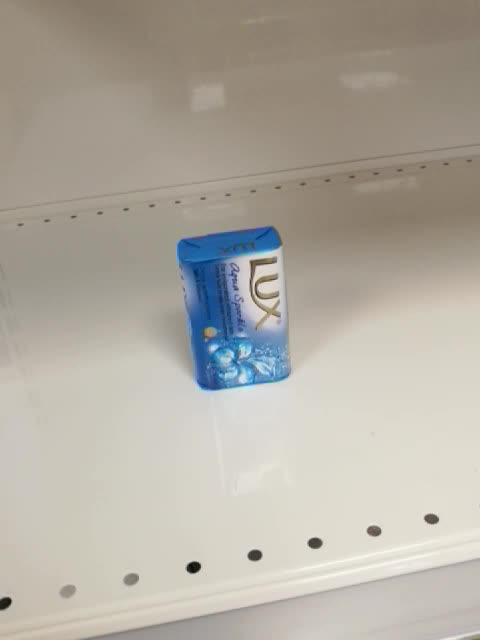soap: (176, 224, 293, 393)
